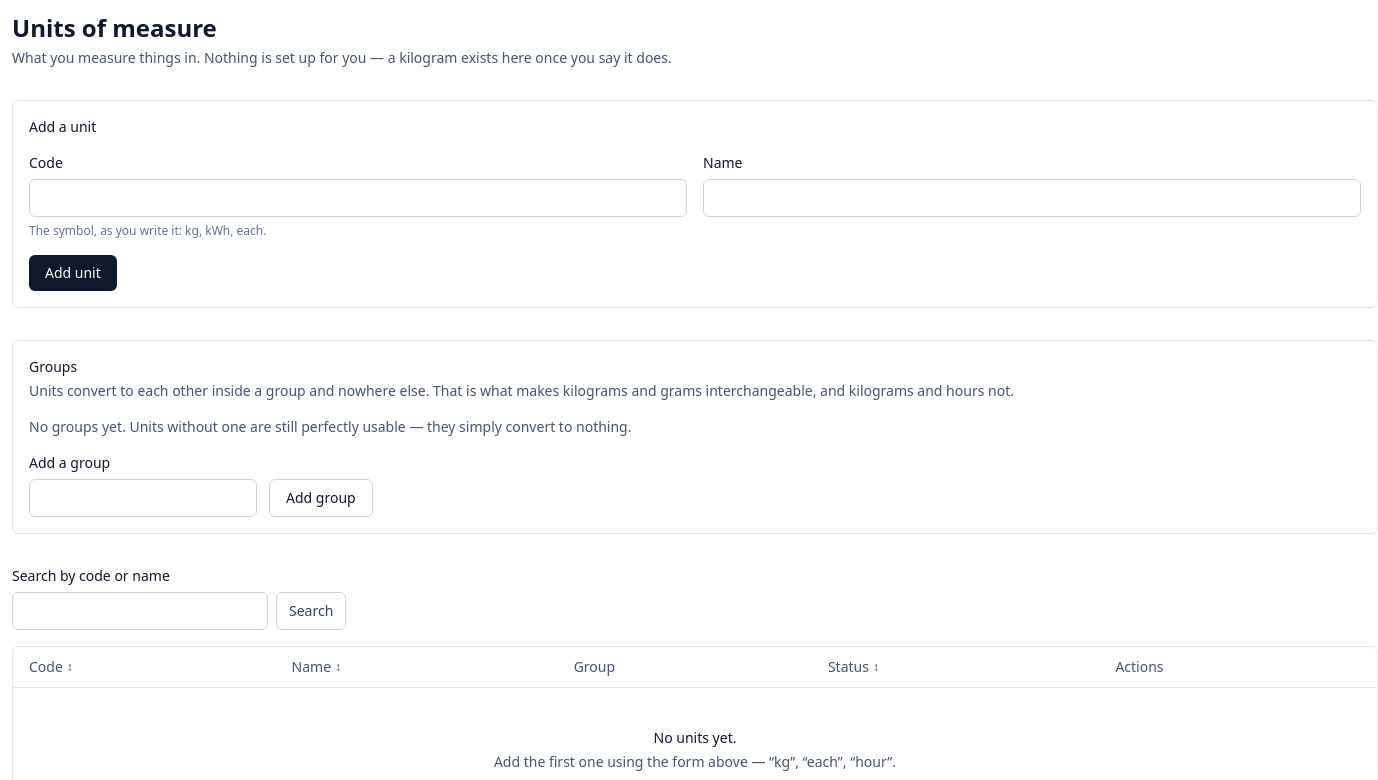
Test case: UnitsPage › adding a group › creates one and shows it, so a unit can then be put in it
Expected: the text "No groups yet" is shown, [29, 417, 632, 436]
Step 1. Type "Weight" into the field labelled "Add a group" → x=143, y=498, box [29, 479, 257, 517]
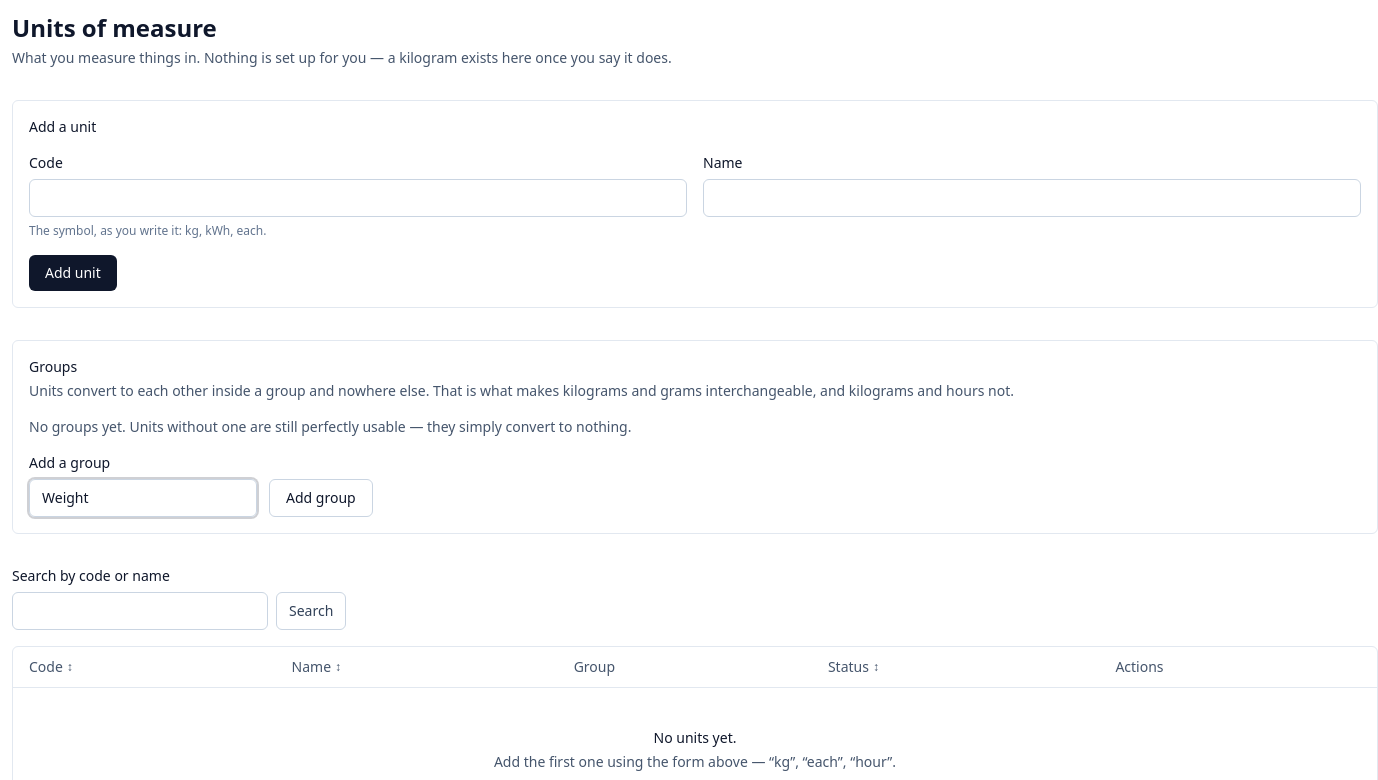
Step 2. Click the button "Add group" → x=321, y=498, box [269, 479, 373, 517]
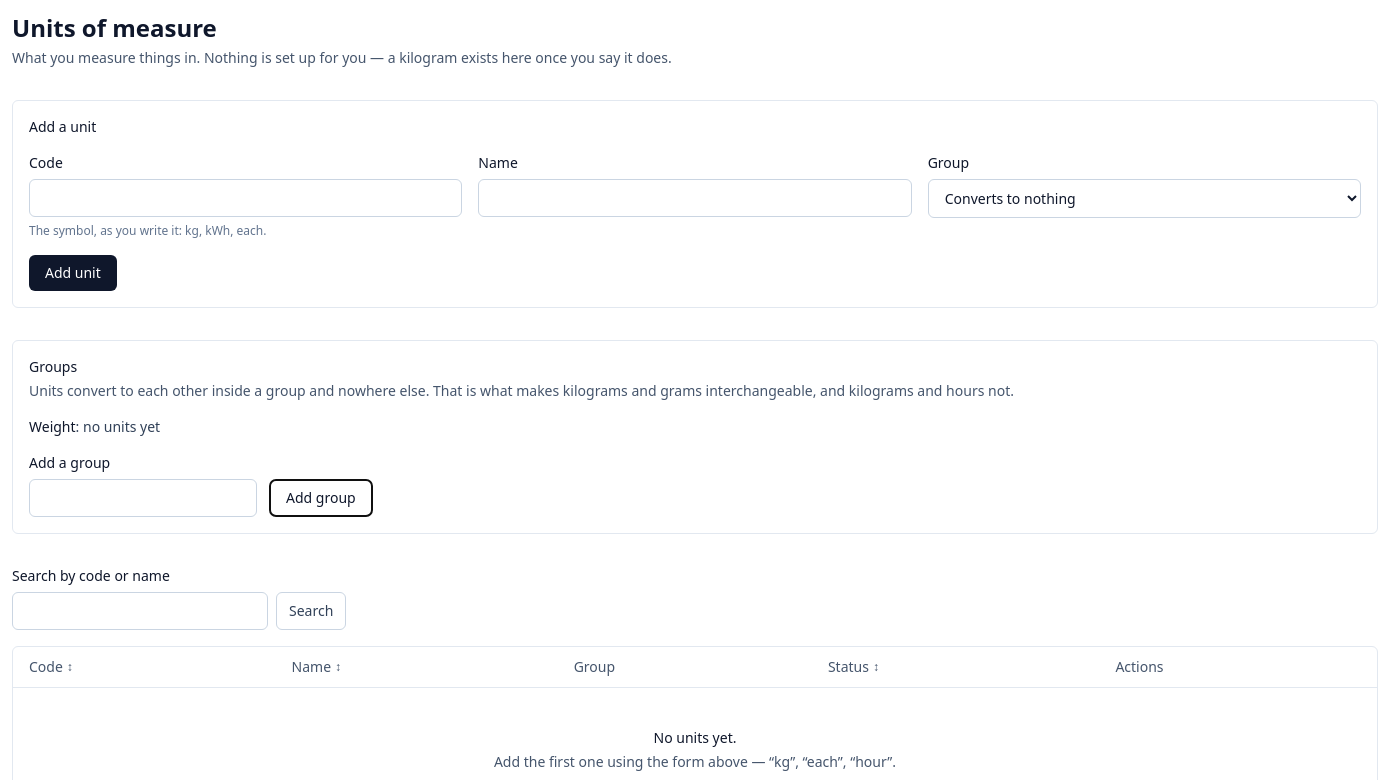
Now the dropdown labelled "Group" is shown, box [928, 179, 1361, 218]
